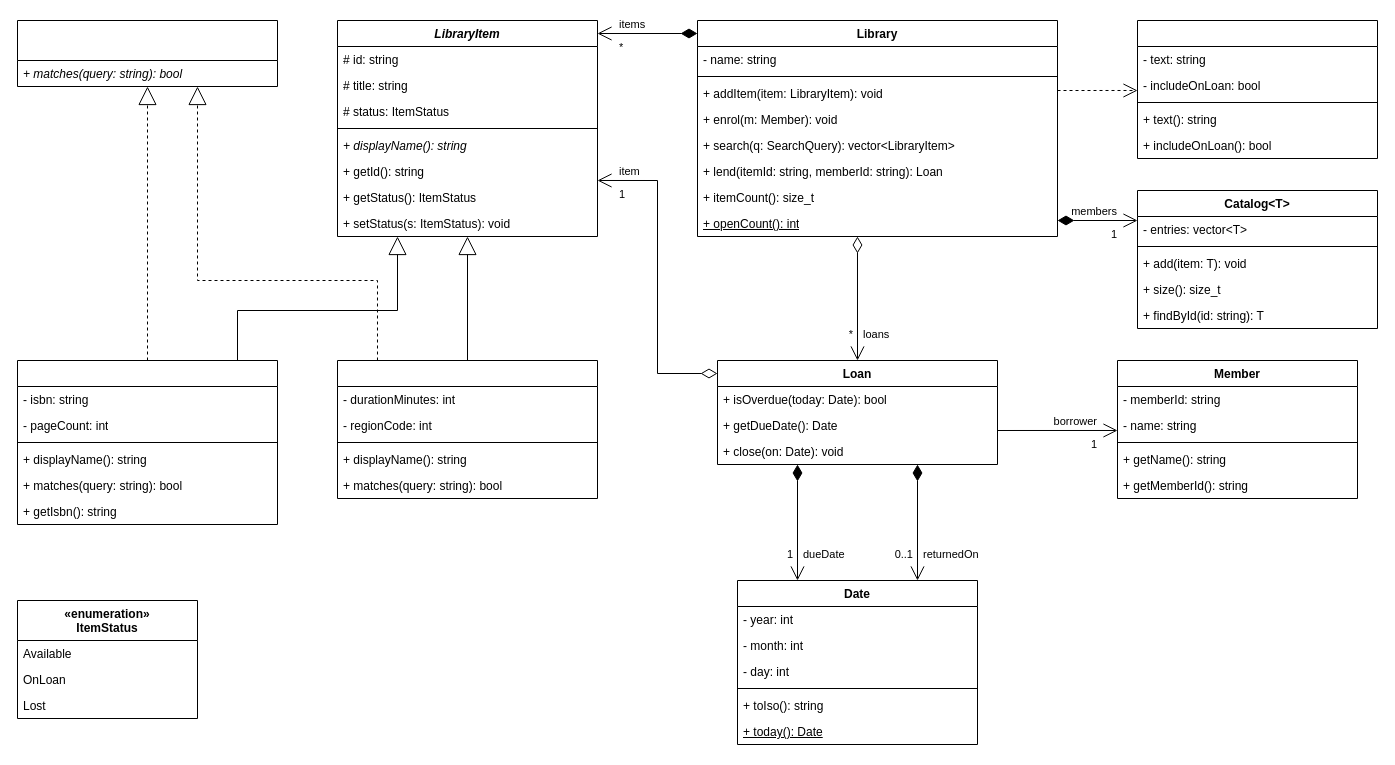
The diagram is 1395 pixels wide and 765 high, and some of its shapes have lost their labels. Each missing label, with the box of its shape:
Book: (16, 360, 278, 524)
Dvd: (336, 360, 598, 498)
SearchQuery: (1136, 20, 1378, 158)
«interface» Searchable: (16, 20, 278, 86)
